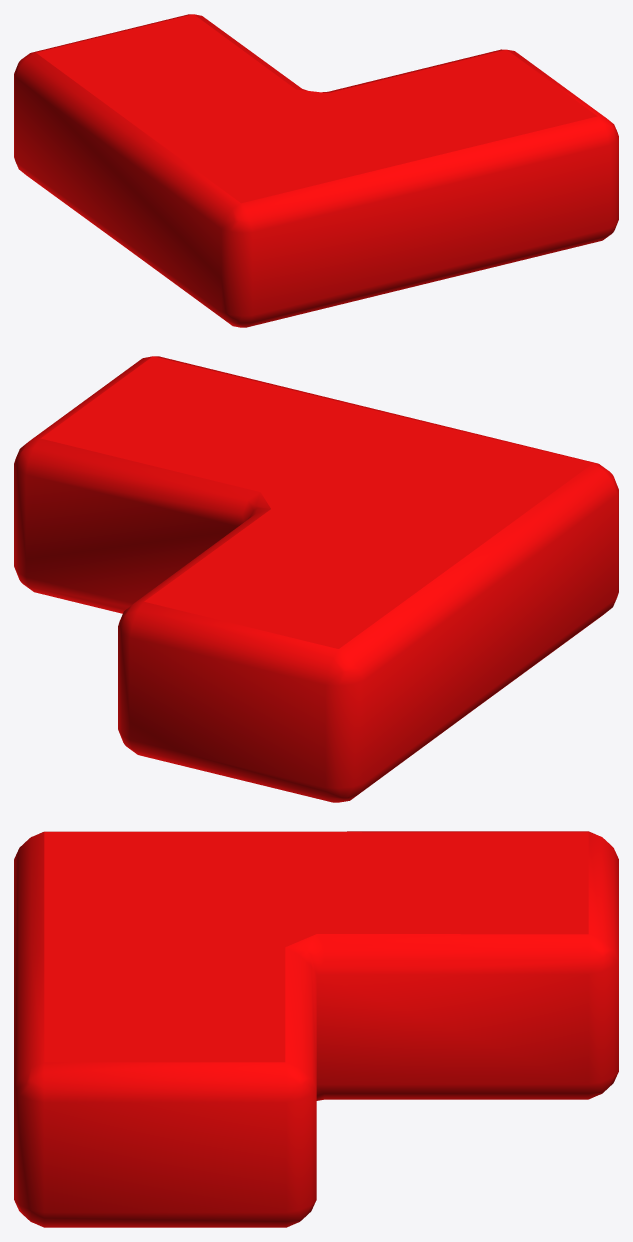
File: LBlockRed.fbx
3 renders of one model, top to bottom at view 1: azimuth 30°, elevation 25°; view 2: azimuth 150°, elevation 25°; view 3: azimuth 270°, elevation 25°, orthographic. The views are drawn at different scales.
Parts seen in each view (by area): view 1: LBlock; view 2: LBlock; view 3: LBlock.
Boxes of the visible parts, bbox=[...] form: LBlock: bbox=[14, 14, 618, 327]; LBlock: bbox=[14, 356, 618, 802]; LBlock: bbox=[14, 831, 618, 1227].
Bounding box in the file's own units: 4 × 1.2 × 4.
